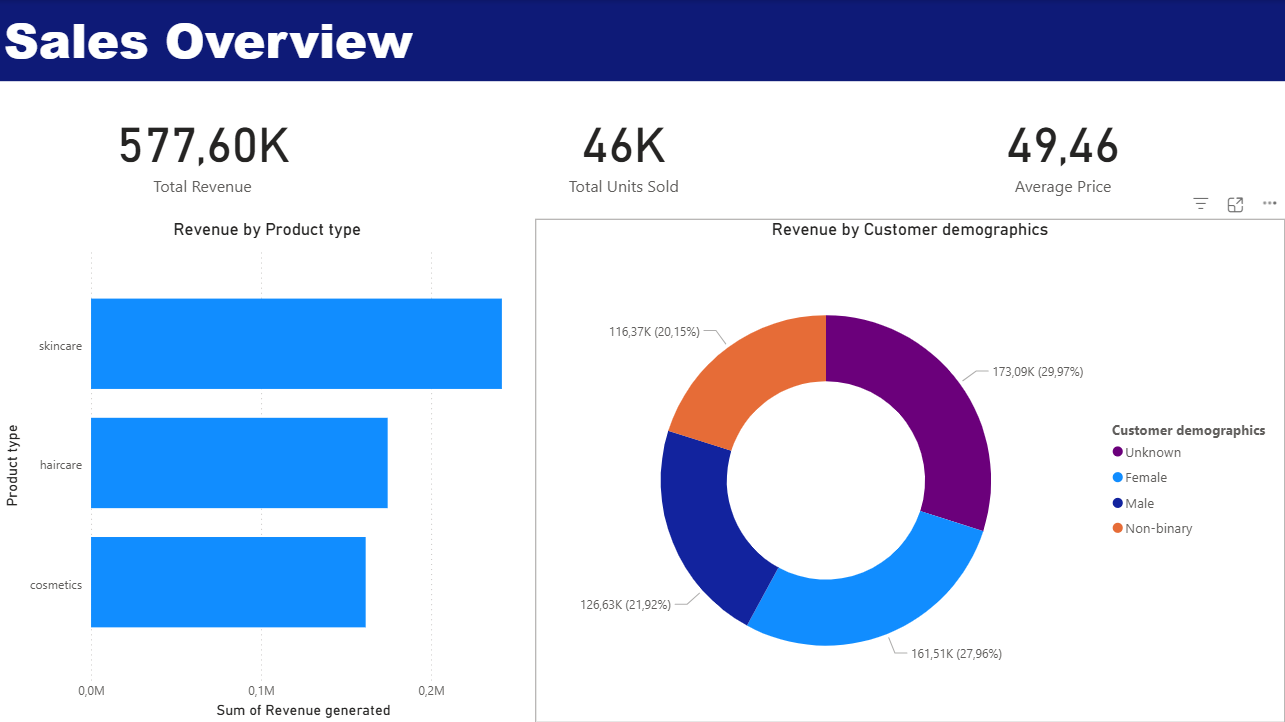

This screenshot's page, from the dashboard's own definition file:
{"tool":"powerbi","page":{"name":"Sales Overview","canvas":[1280,720],"ordinal":0},"visuals":[{"type":"card","fields":{"Values":["Sum(supply_chain_data.Revenue generated)"]},"box":[0,80.8,405.4,137.1],"z":0},{"type":"card","fields":{"Values":["Sum(supply_chain_data.Number of products sold)"]},"box":[405.4,80.8,432.8,137.1],"z":1},{"type":"card","fields":{"Values":["Avg(supply_chain_data.Price)"]},"box":[838.2,80.8,441.5,137.1],"z":2},{"type":"clusteredBarChart","title":"Revenue by Product type","fields":{"Category":["supply_chain_data.Product type"],"Y":["Sum(supply_chain_data.Revenue generated)"]},"box":[0,217.9,533.8,502.1],"z":3},{"type":"donutChart","title":"Revenue by Customer demographics","fields":{"Category":["supply_chain_data.Customer demographics"],"Y":["Sum(supply_chain_data.Revenue generated)"]},"box":[533.8,217.9,745.9,502.1],"z":4},{"type":"textbox","box":[0,0,1279.7,80.8],"z":5}]}

Visuals, with their boxes in screenshot pixels (x1, y1, x2, y2), scaled from the page's 1280x720 canvas onto the 1285x722 screenshot:
card - Sum(supply_chain_data.Revenue generated): (0, 81, 407, 219)
card - Sum(supply_chain_data.Number of products sold): (407, 81, 841, 219)
card - Avg(supply_chain_data.Price): (841, 81, 1284, 219)
"Revenue by Product type" clusteredBarChart: (0, 219, 536, 721)
"Revenue by Customer demographics" donutChart: (536, 219, 1284, 721)
textbox: (0, 0, 1284, 81)
